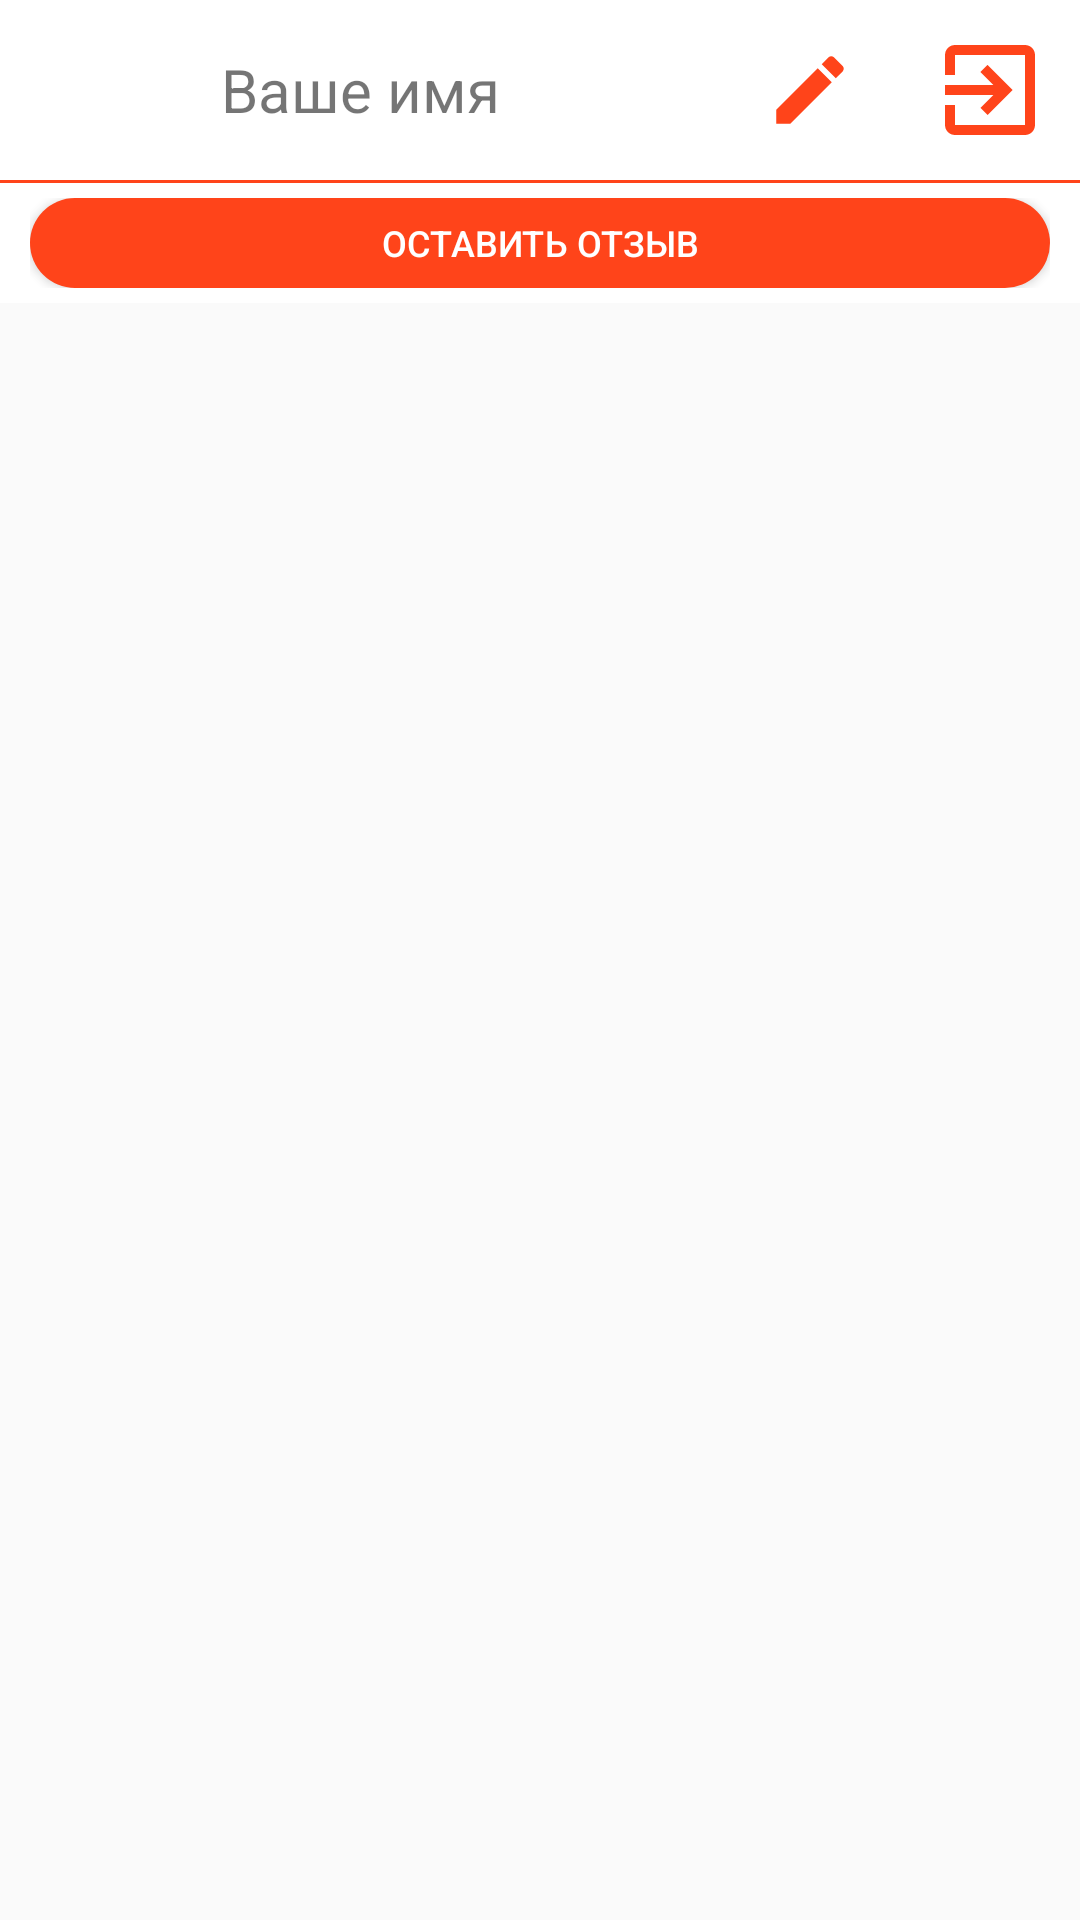

Locate icon controls on the screen. Image size 1080 x 1920, boxes as [x1,y1,x2,y2].
edit: [776,56,844,124]
exit: [945,45,1035,135]
